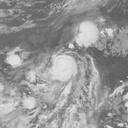cyclone: (51, 54, 78, 81)
